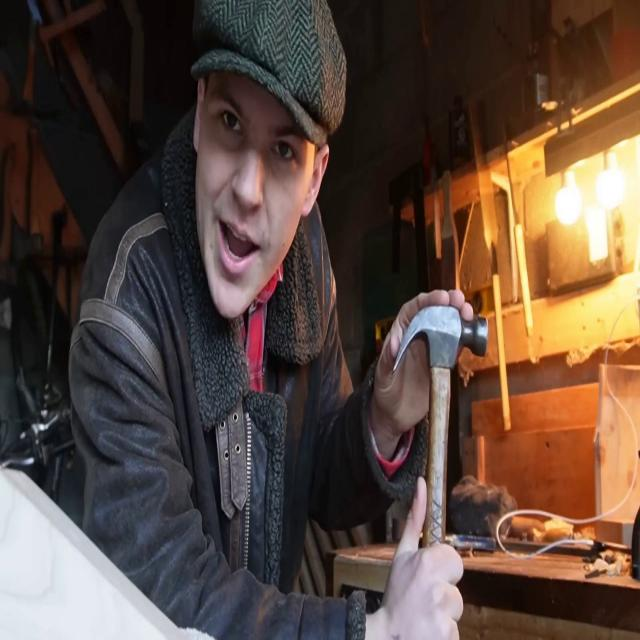hammer: (392, 304, 489, 550)
